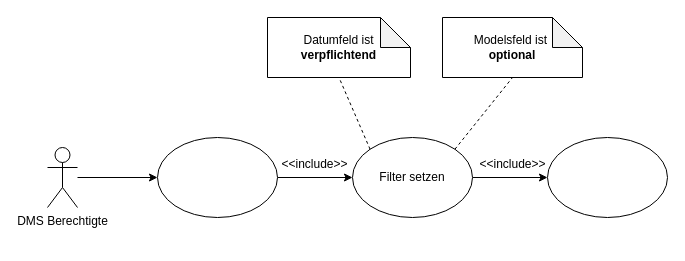
This 685x261 diagram has some shape labels left out. Here are the shapes that lost their labels. From the top down, the centre of each, then its label:
point 217,177: Export erstellen / Wizard öffnen
point 607,177: Datensatz speichern mit ZIP im Anhang
